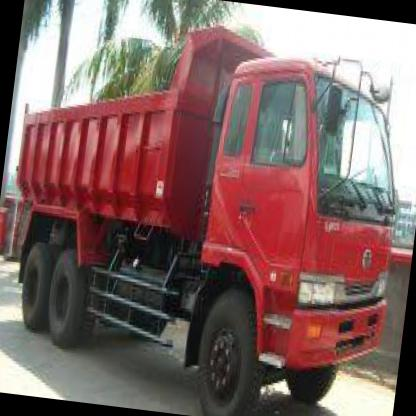truck: (178, 45, 416, 416)
